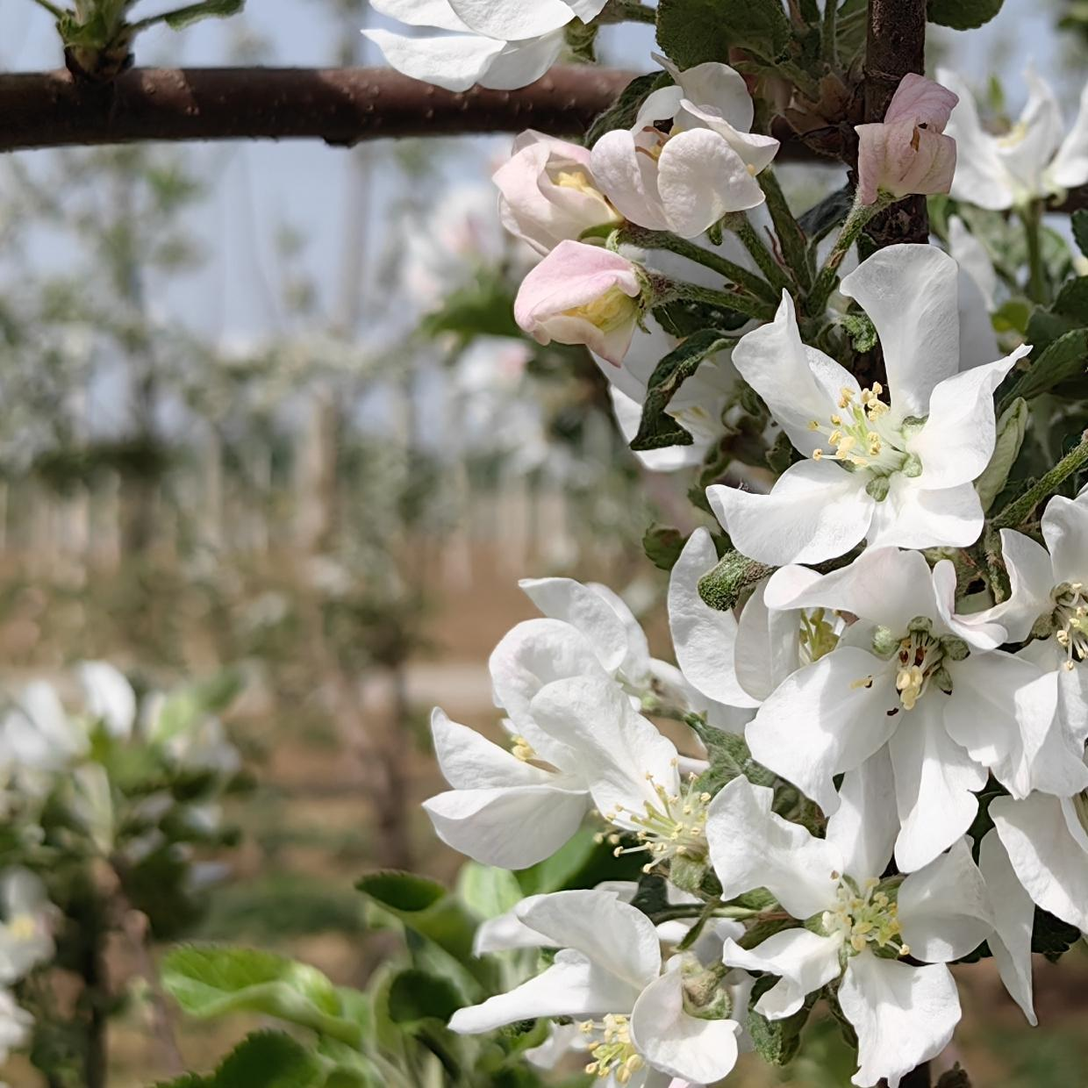apple_flower: (426, 68, 1088, 1088), (940, 66, 1088, 208), (367, 0, 607, 87)
